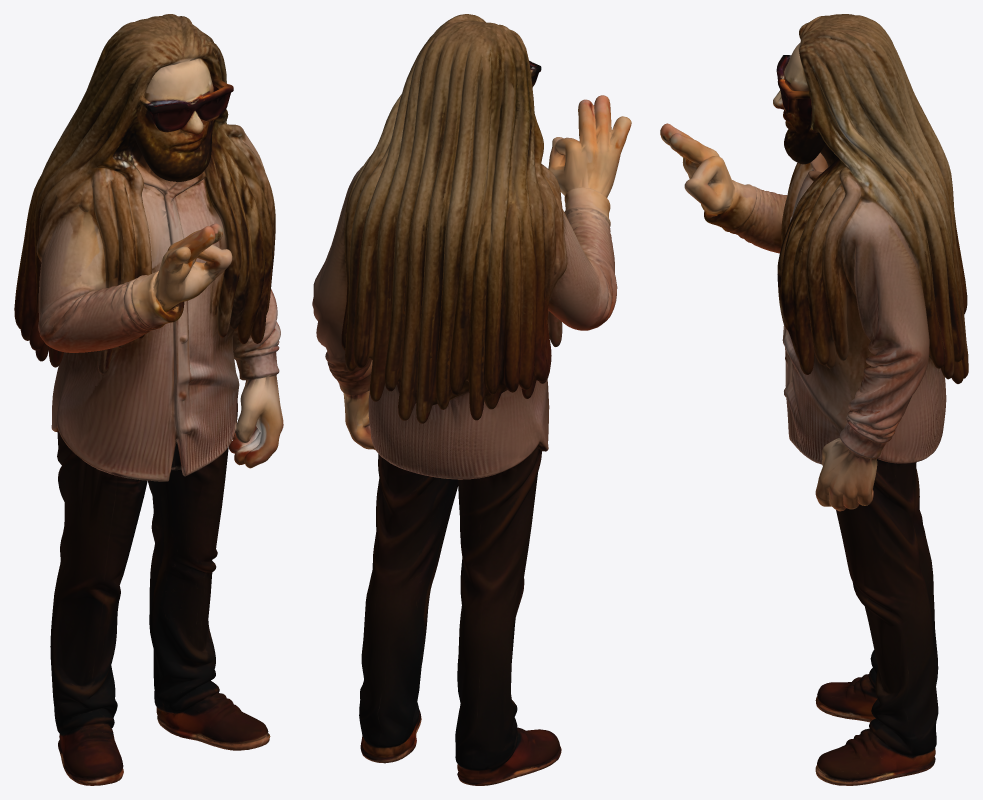
File: jahman_balanced.glb
The picture shows the model from 3 angles, left to right: view 1: azimuth 30°, elevation 25°; view 2: azimuth 150°, elevation 25°; view 3: azimuth 270°, elevation 25°; orthographic projection. The views are drawn at different scales.
Visible parts, largest first — view 1: material.001; view 2: material.001; view 3: material.001.
Boxes of the visible parts, left/top/right/bottom form: material.001: left=14, top=14, right=283, bottom=785; material.001: left=312, top=14, right=631, bottom=785; material.001: left=660, top=14, right=968, bottom=785.
Size of the model in its own units: 0.4248 by 1.14 by 0.4432.
Materials: 1 (1 with a texture image).
